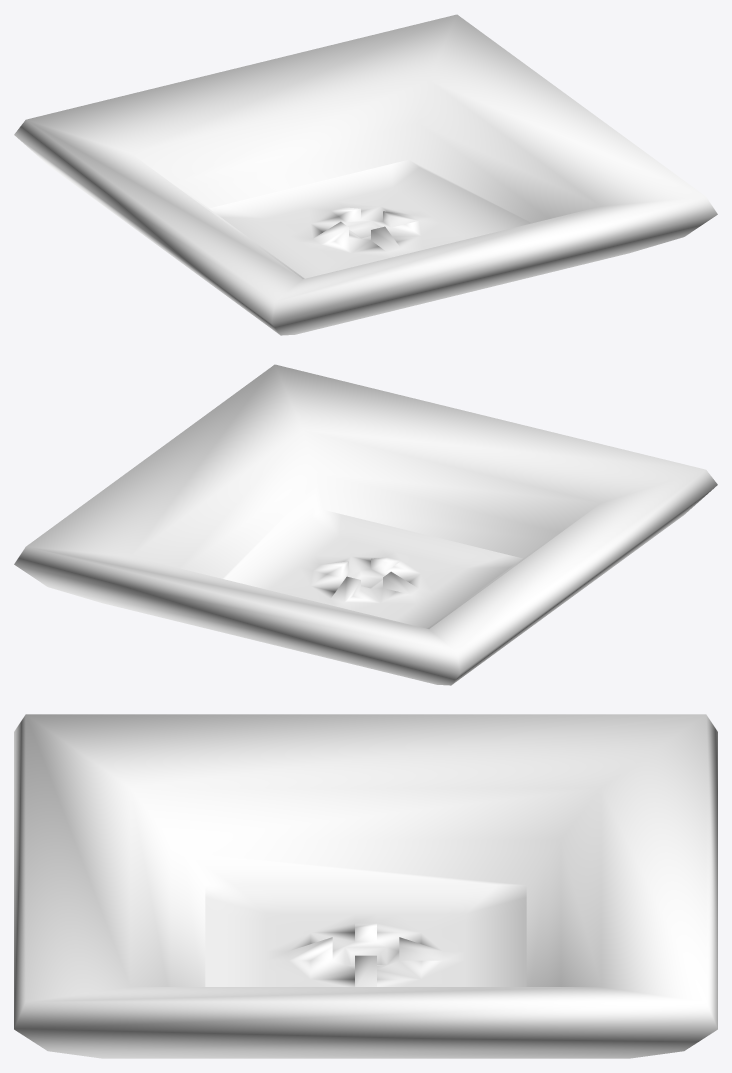
The model's file is Arena.fbx.
3 views of the same model, one above another, from view 1: azimuth 30°, elevation 25°; view 2: azimuth 150°, elevation 25°; view 3: azimuth 270°, elevation 25° (orthographic). The views are drawn at different scales.
Visible parts, largest first — view 1: Cube; view 2: Cube; view 3: Cube.
Part boxes in pixels (<box>): Cube: <box>14,14,717,335</box>; Cube: <box>14,364,717,685</box>; Cube: <box>14,714,717,1058</box>.
Size of the model in its own units: 38.05 by 8.15 by 38.05.
